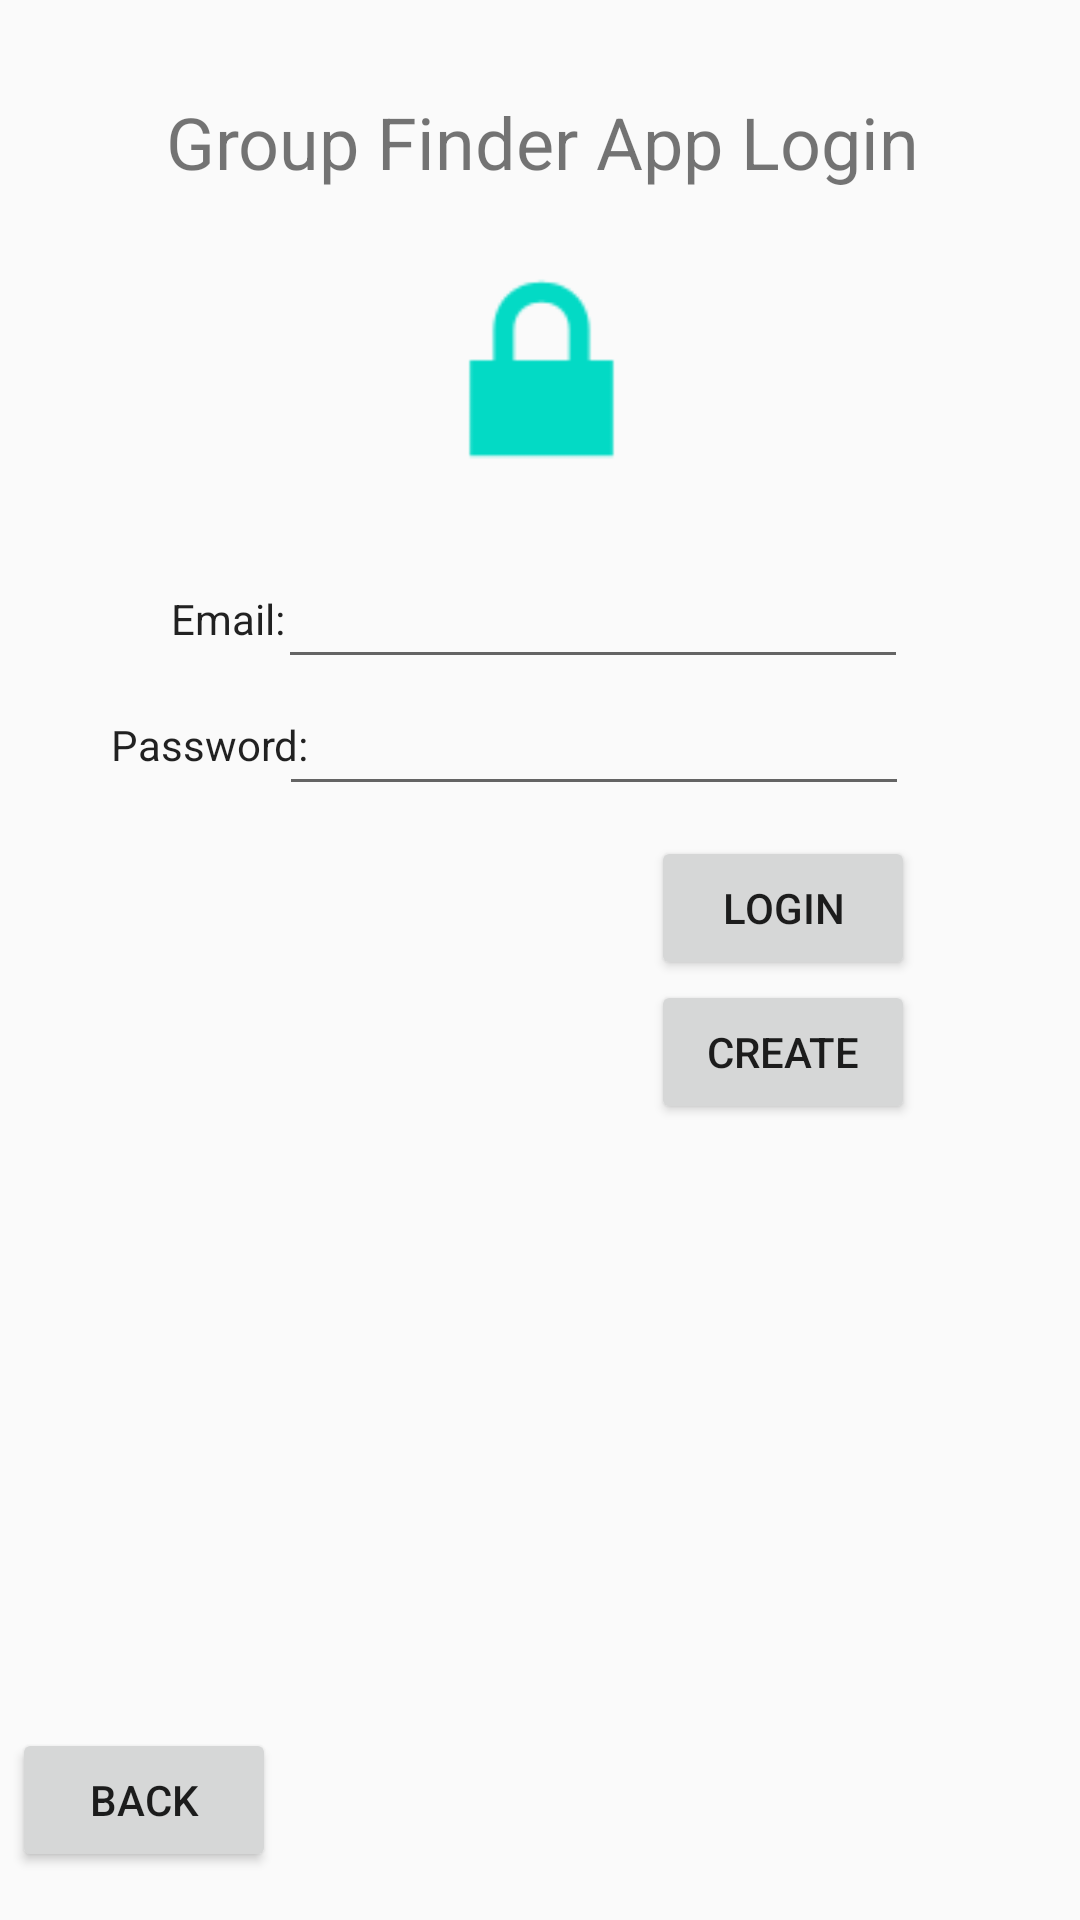

Icon click points for this 1080*1920 phone screenshot, format point (x, y):
lock: point (541, 369)
